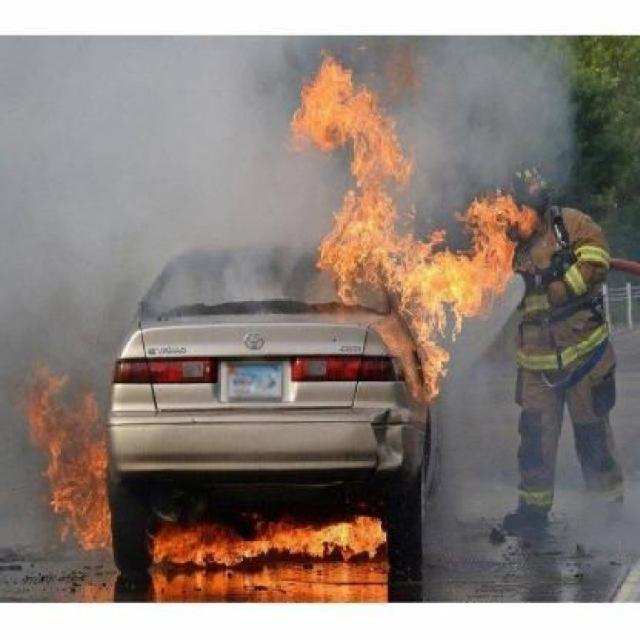Fire: (22, 383, 405, 595), (299, 109, 523, 366)
Smoke: (18, 56, 250, 274)
